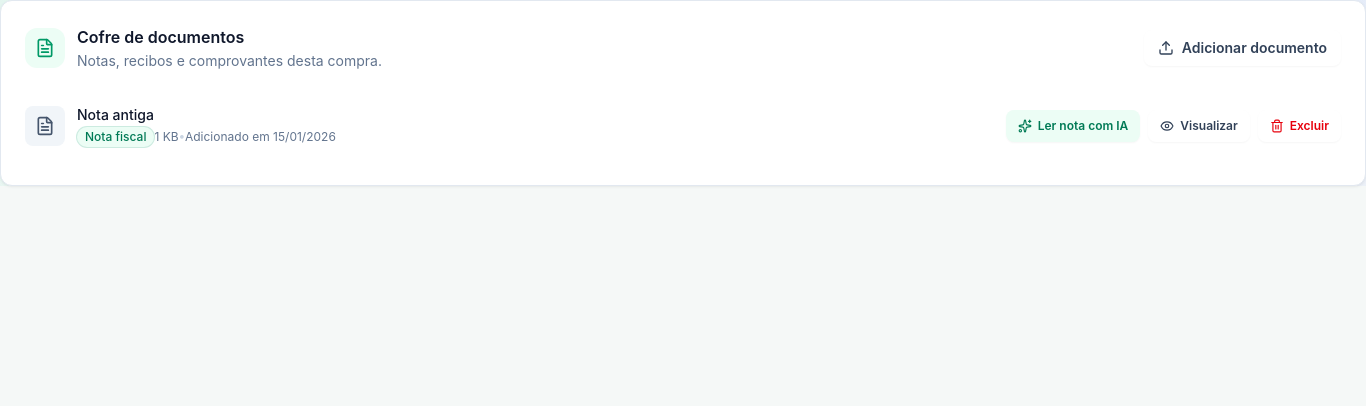
it: PurchaseDocumentsSection — extração com documento inexistente (404) › 404 na extração: remove o documento da lista e mantém a mensagem amigável
Expected: the text "Nota antiga" is shown, [77,106,154,123]
Click the button "Ler nota com IA": [1073, 126] box [1006,110,1140,142]
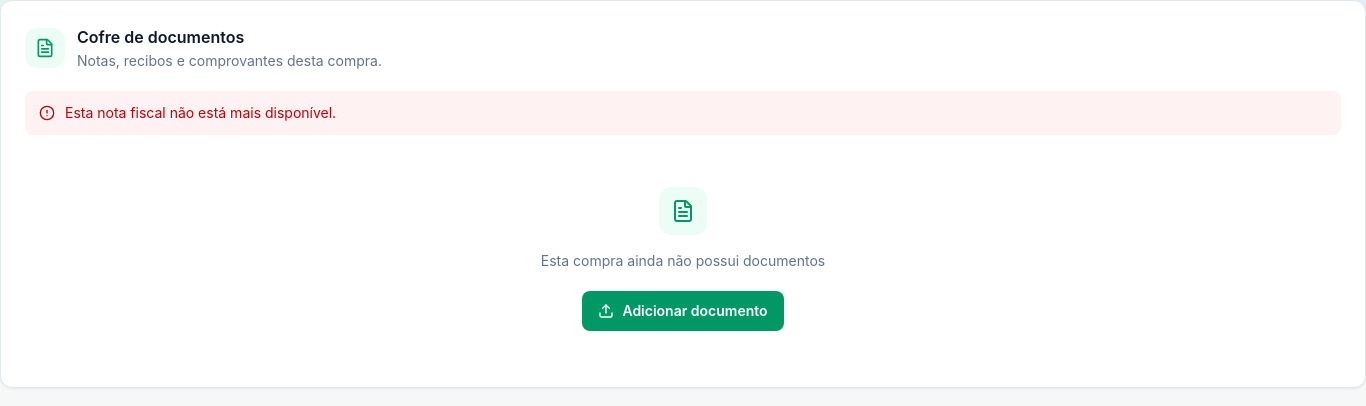
Expected: the text "Esta nota fiscal não está mais disponível." is shown, [65,103,336,123]
Expected: the text "Nota antiga" is gone
